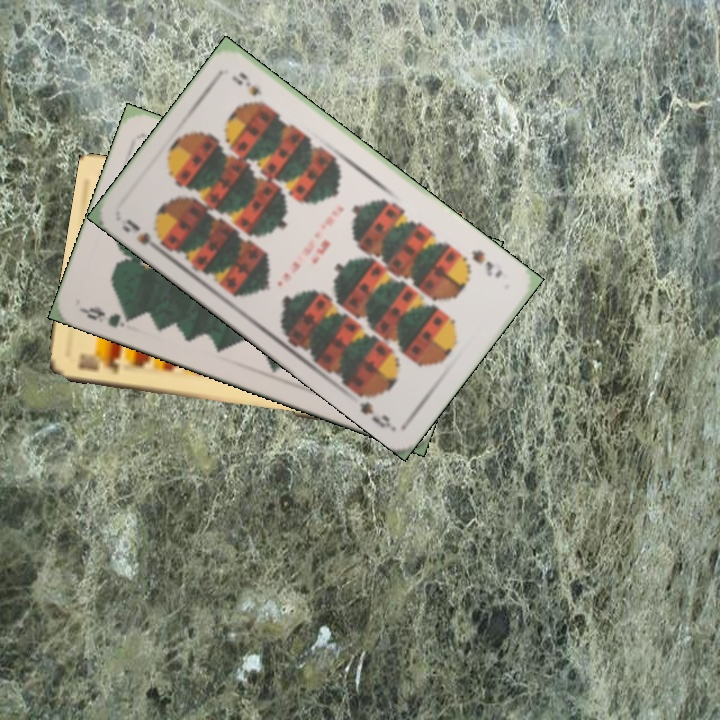E10: (74, 348, 122, 377)
G9: (77, 303, 138, 330)
S9: (117, 215, 169, 257), (467, 246, 505, 280)
